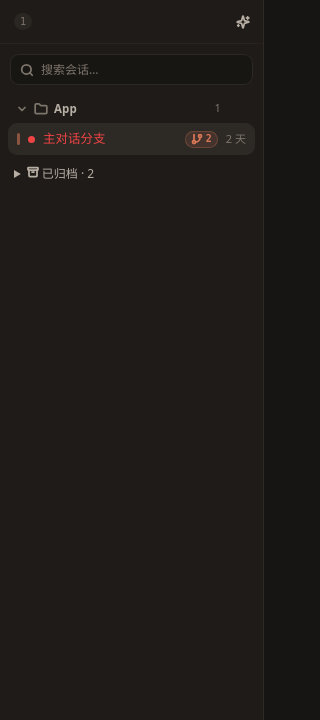
it: v0.3.1 前端本体与内置插件 UI 全仓缺陷回归 (F-P1-4 ~ F-P2-1) › F-P1-12 (ProjectSidebar)：子分支 error 状态冒泡至主条目状态点，且归档计数跟随搜索过滤实时更新
Expected: the element with class "is-error" is shown, [28,136,35,142]
Expected: the heading "已归档 · 2" is shown, [27,165,94,182]
Type "Alpha" into the field with test id "sidebar-search-input" at (132, 70), box [10,54,253,85]
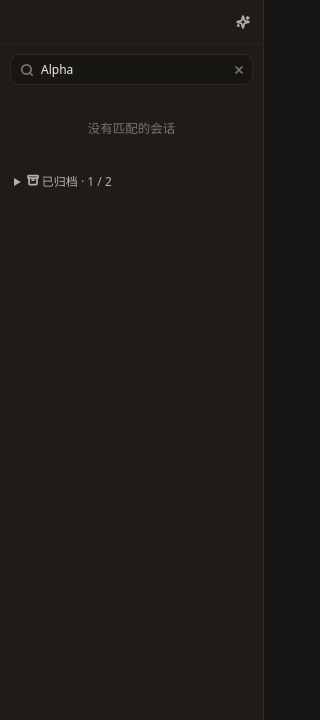
Now the heading "已归档 · 1 / 2" is shown, box [27,173,112,190]
